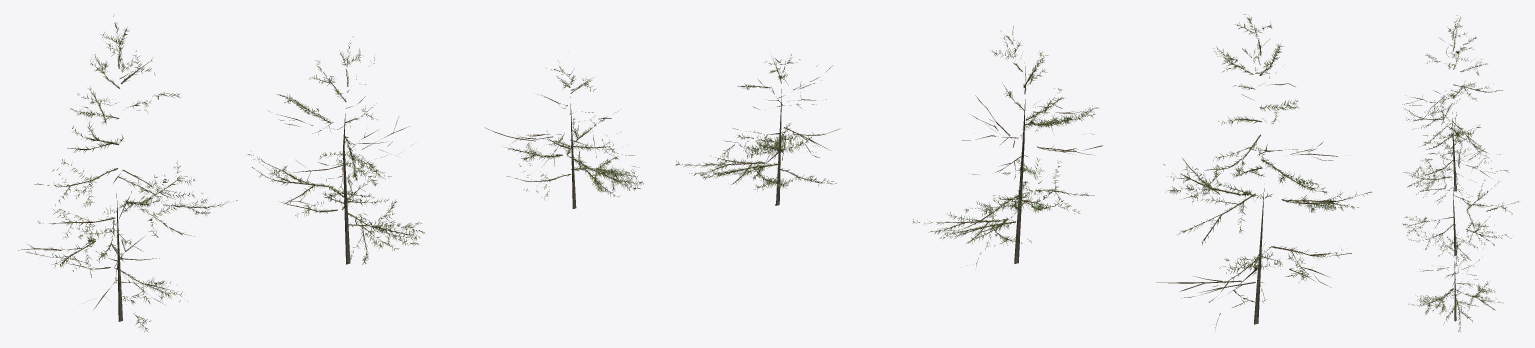
Rendered from fir_sapling.glb.
3 renders of one model, left to right at view 1: azimuth 30°, elevation 25°; view 2: azimuth 150°, elevation 25°; view 3: azimuth 270°, elevation 25°, orthographic. The views are drawn at different scales.
Visible parts, largest first — view 1: fir_sapling_a; view 2: fir_sapling_a; view 3: fir_sapling_a.
Boxes of the visible parts, x1,y1,x2,y2 form: fir_sapling_a: (18, 14, 643, 332); fir_sapling_a: (675, 14, 1372, 330); fir_sapling_a: (1402, 15, 1518, 332).
Bounding box in the file's own units: 2.72 × 1.26 × 0.7755.
2 materials, 2 textured.
